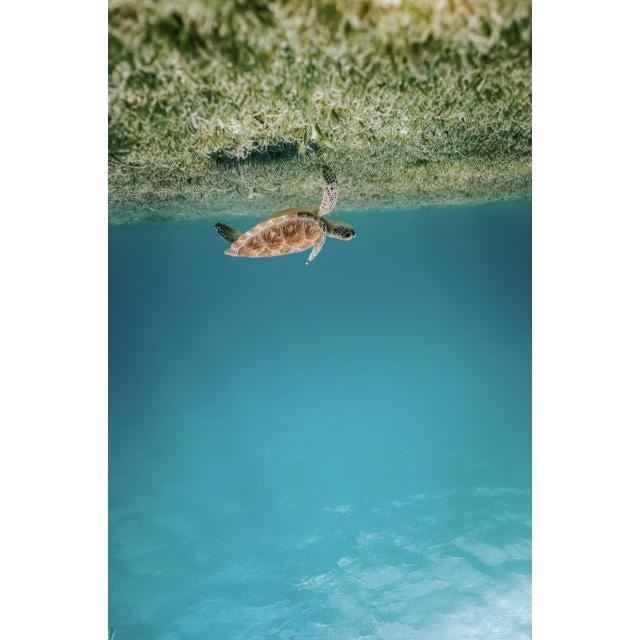turtle: (215, 169, 355, 266)
